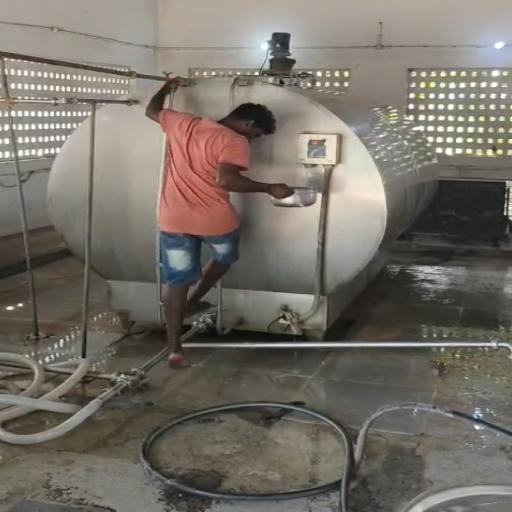silo: (46, 67, 443, 333)
vessel: (269, 186, 318, 207)
